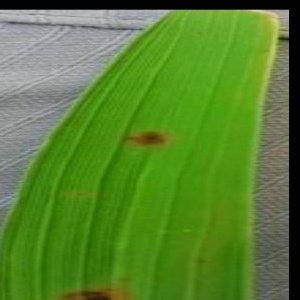Bacterial_Leaf_Blight: (118, 124, 173, 151), (61, 285, 98, 300), (189, 255, 210, 268), (73, 189, 91, 201), (140, 227, 158, 239), (192, 27, 207, 38), (115, 276, 133, 284), (101, 286, 118, 294), (260, 47, 274, 56)
